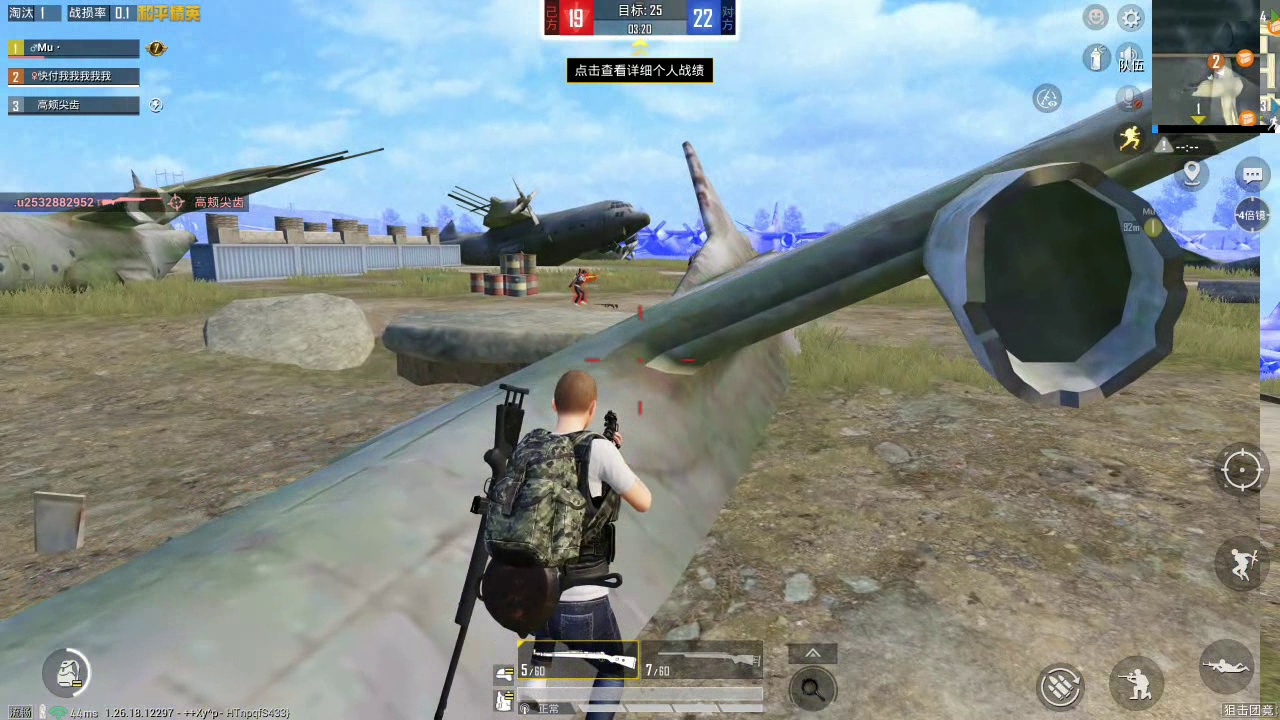enemy: (567, 268, 596, 304)
